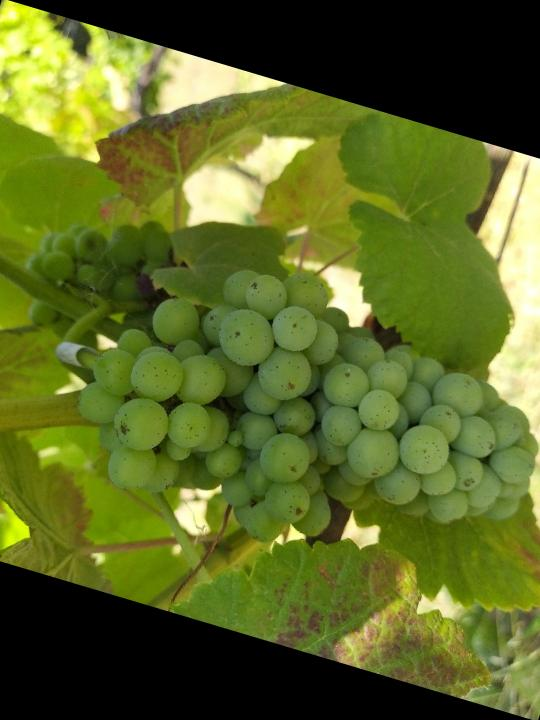grape: (51, 234, 540, 616)
